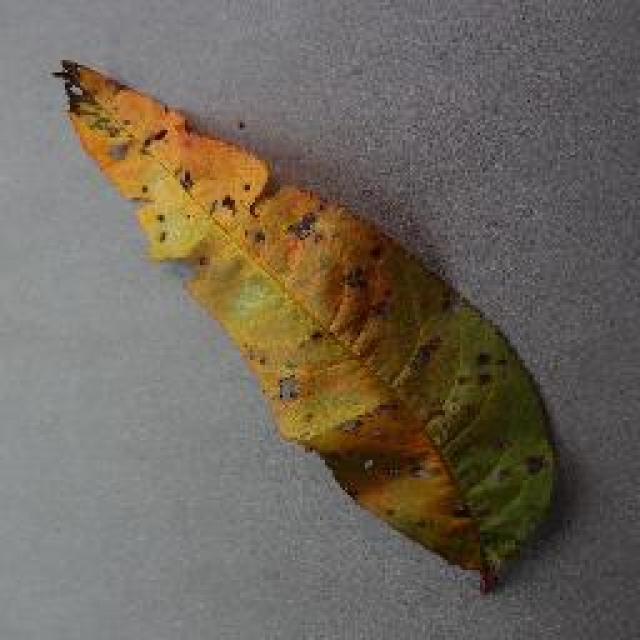Peach_Bacterial_Spot: (103, 112, 427, 433)
